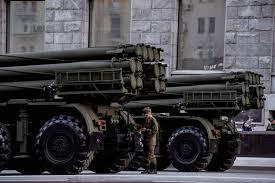MIL_SAM_TEL: (0, 44, 169, 174), (161, 65, 268, 174)
